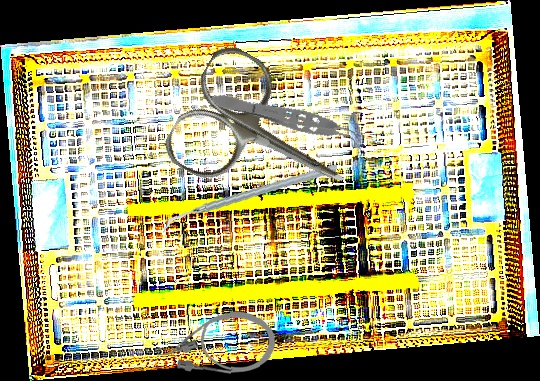Cannula: (155, 309, 278, 377)
Chopper: (162, 145, 338, 251)
Iris Scissors: (157, 39, 375, 239)
Tissue Forceps: (207, 86, 371, 153)
